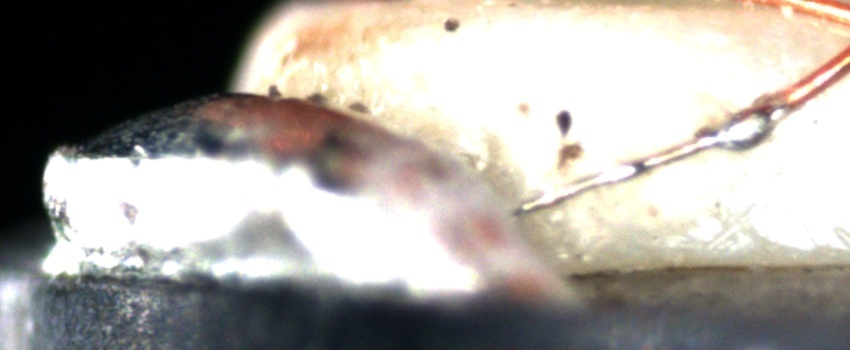TB: (714, 105, 778, 155)
TS: (524, 103, 780, 214)
TTCW: (521, 63, 835, 216)
